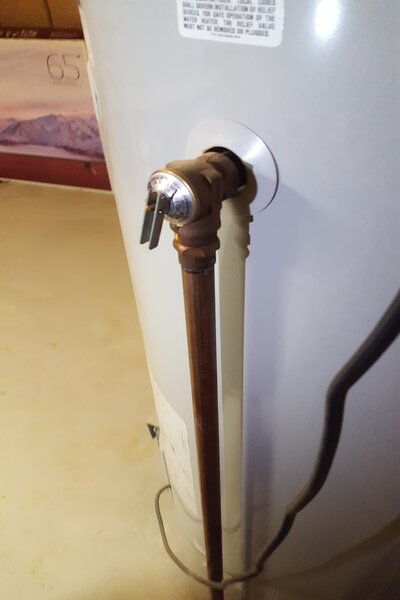valve: (138, 146, 246, 288)
